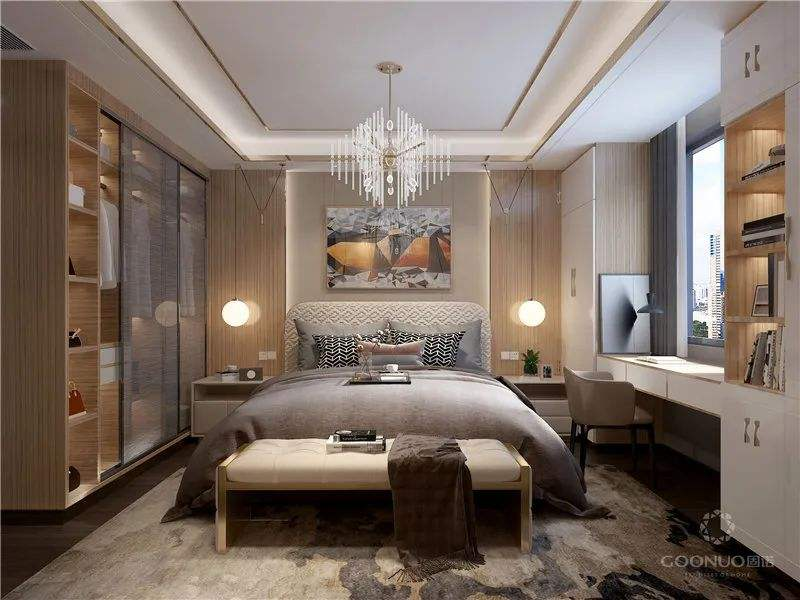床: (221, 368, 565, 553)
枕头: (287, 310, 487, 385)
灯: (334, 59, 436, 215), (215, 300, 257, 335), (519, 299, 553, 337)
